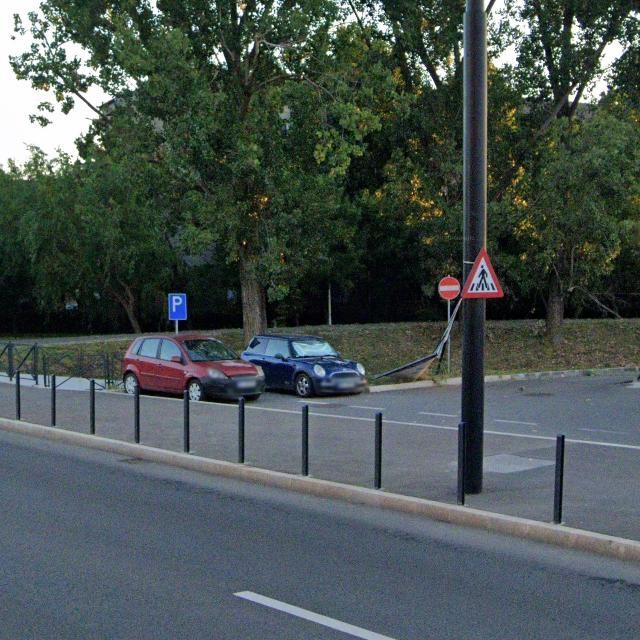warn_crosswalk: (462, 248, 504, 299)
